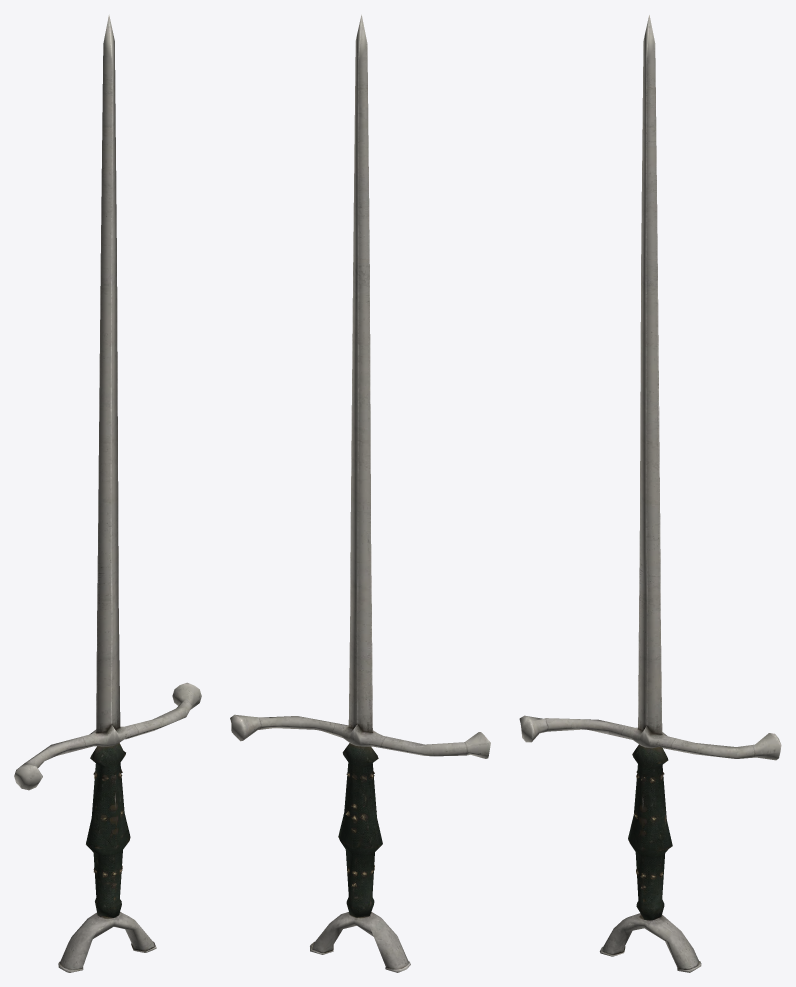
File: antique_estoc.glb
3 views of the same model, side by side, from view 1: azimuth 30°, elevation 25°; view 2: azimuth 150°, elevation 25°; view 3: azimuth 330°, elevation 25° (orthographic).
Visible parts, largest first — view 1: antique_estoc; view 2: antique_estoc; view 3: antique_estoc.
Boxes of the visible parts, left/top/right/bottom form: antique_estoc: left=14, top=14, right=201, bottom=972; antique_estoc: left=230, top=14, right=490, bottom=972; antique_estoc: left=519, top=15, right=781, bottom=972.
Bounding box in the file's own units: 0.3685 × 1.49 × 0.1479.
Materials: 1 (1 with a texture image).
